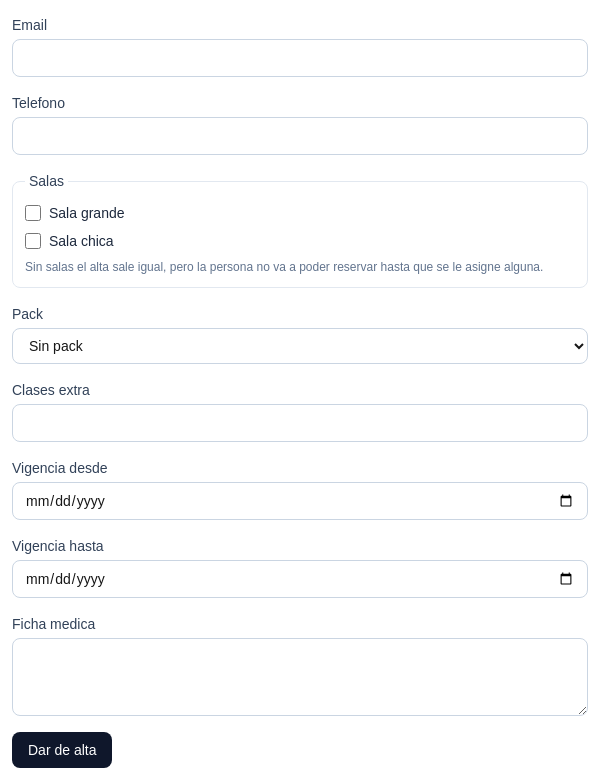
validacion y fallos › sin nombre ni email no se molesta al servidor
(page scrolled)
Click the button "Dar de alta". click: {"x": 62, "y": 750}
box: [12,732,112,767]
(page scrolled)
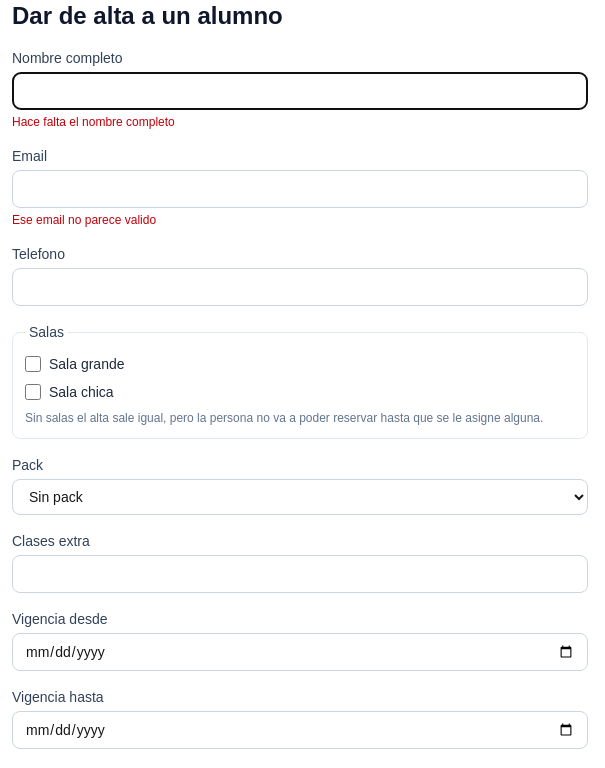
Expected: the text "Hace falta el nombre completo" is shown, [12,115,175,129]
